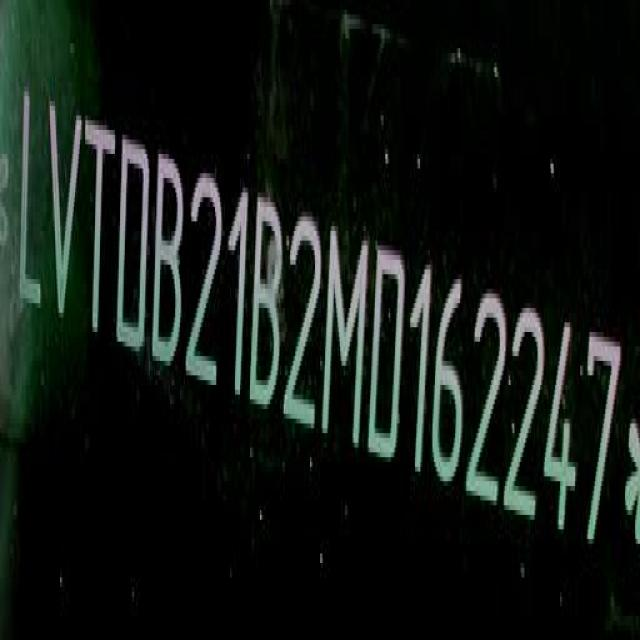1: (408, 259, 431, 476), (226, 182, 247, 403)
2: (506, 301, 548, 525), (286, 204, 324, 431), (188, 163, 225, 390), (466, 288, 504, 507)
4: (543, 313, 584, 540)
6: (431, 270, 466, 491)
7: (583, 331, 624, 552)
B: (152, 148, 186, 374), (252, 188, 284, 410)
D: (371, 239, 409, 468), (116, 127, 152, 359)
L: (17, 84, 46, 324)
M: (322, 222, 367, 449)
T: (85, 109, 117, 351)
V: (43, 94, 82, 335)
